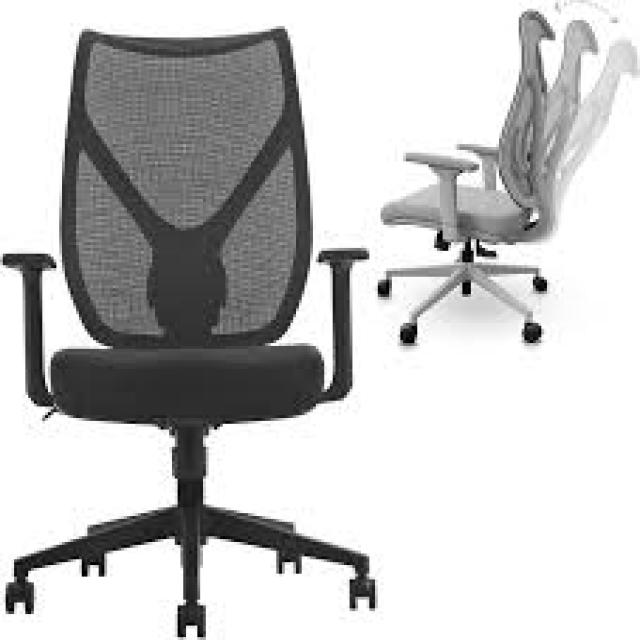chair: (0, 20, 375, 639), (368, 1, 640, 364)
